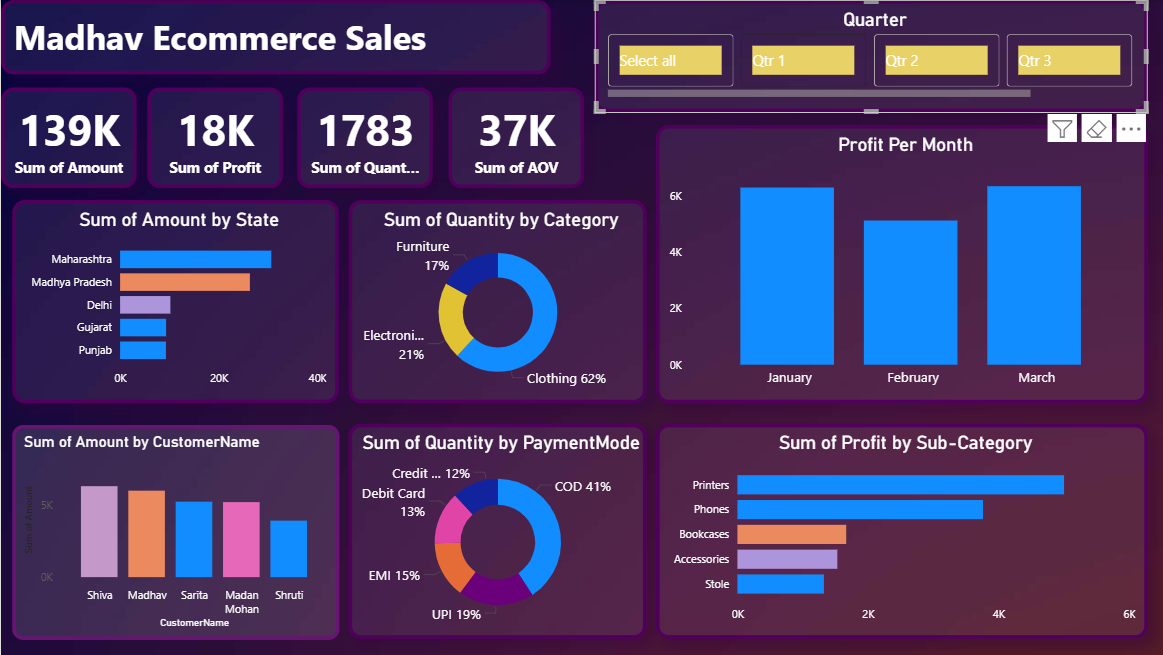

Layout of this report page (visuals, bound fields, positions):
{"tool":"powerbi","page":{"name":"Page 1","canvas":[1280,720],"ordinal":0},"visuals":[{"type":"textbox","box":[0,0,602.9,81.4],"z":0},{"type":"clusteredColumnChart","title":"Profit Per Month","fields":{"Category":["Orders.Order Date.Variation.Date Hierarchy.Month"],"Y":["Sum(Details.Profit)"]},"box":[718.6,137.1,540,305.7],"z":1000},{"type":"barChart","fields":{"Category":["Details.Sub-Category"],"Y":["Sum(Details.Profit)"]},"box":[718.6,465.7,540,235.7],"z":2000},{"type":"donutChart","fields":{"Category":["Details.Category"],"Y":["Sum(Details.Quantity)"]},"box":[381.4,220,327.1,222.9],"z":3000},{"type":"donutChart","fields":{"Y":["Sum(Details.Quantity)"],"Category":["Details.PaymentMode"]},"box":[381.4,465.7,327.1,235.7],"z":4000},{"type":"card","fields":{"Values":["Sum(Details.Amount)"]},"box":[0,95.7,148.6,110],"z":5000},{"type":"card","fields":{"Values":["Sum(Details.Profit)"]},"box":[160,95.7,148.6,110],"z":6000},{"type":"card","fields":{"Values":["Sum(Details.Quantity)"]},"box":[325.7,95.7,148.6,110],"z":7000},{"type":"card","fields":{"Values":["Sum(Details.AOV)"]},"box":[491.4,95.7,148.6,110],"z":8000},{"type":"barChart","fields":{"Category":["Orders.State"],"Y":["Sum(Details.Amount)"]},"box":[12.9,220,358.6,222.9],"z":9000},{"type":"clusteredColumnChart","fields":{"Category":["Orders.CustomerName"],"Y":["Sum(Details.Amount)"]},"box":[13,466,359,236],"z":10000},{"type":"advancedSlicerVisual","fields":{"Values":["Orders.Order Date.Variation.Date Hierarchy.Quarter"]},"box":[651.4,0,607.1,122.9],"z":11000}]}

Visuals, with their boxes in screenshot pixels (x1, y1, x2, y2), scaled from the page's 1280x720 canvas onto the 1163x655 screenshot:
textbox: x1=0, y1=0, x2=548, y2=74
"Profit Per Month" clusteredColumnChart: x1=653, y1=125, x2=1144, y2=403
barChart - Details.Sub-Category x Sum(Details.Profit): x1=653, y1=424, x2=1144, y2=638
donutChart - Details.Category x Sum(Details.Quantity): x1=347, y1=200, x2=644, y2=403
donutChart - Sum(Details.Quantity) x Details.PaymentMode: x1=347, y1=424, x2=644, y2=638
card - Sum(Details.Amount): x1=0, y1=87, x2=135, y2=187
card - Sum(Details.Profit): x1=145, y1=87, x2=280, y2=187
card - Sum(Details.Quantity): x1=296, y1=87, x2=431, y2=187
card - Sum(Details.AOV): x1=446, y1=87, x2=582, y2=187
barChart - Orders.State x Sum(Details.Amount): x1=12, y1=200, x2=338, y2=403
clusteredColumnChart - Orders.CustomerName x Sum(Details.Amount): x1=12, y1=424, x2=338, y2=639
advancedSlicerVisual - Orders.Order Date.Variation.Date Hierarchy.Quarter: x1=592, y1=0, x2=1143, y2=112
